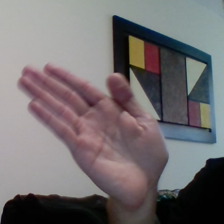left: (13, 54, 186, 209)
